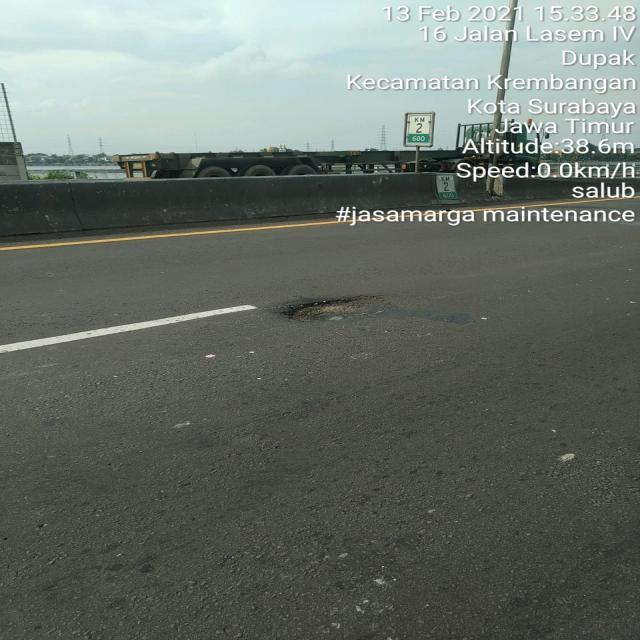Buraco: (277, 293, 389, 325)
